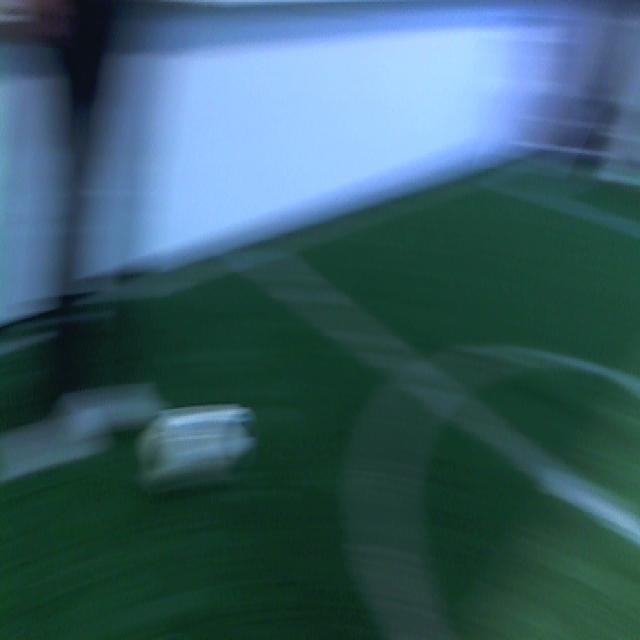ball: (138, 407, 260, 503)
